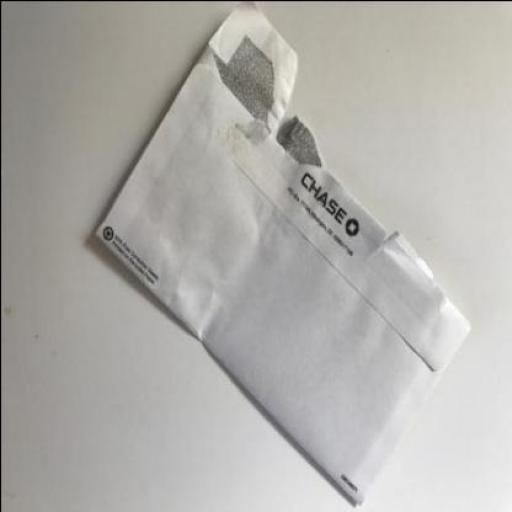paper: (96, 2, 470, 506)
